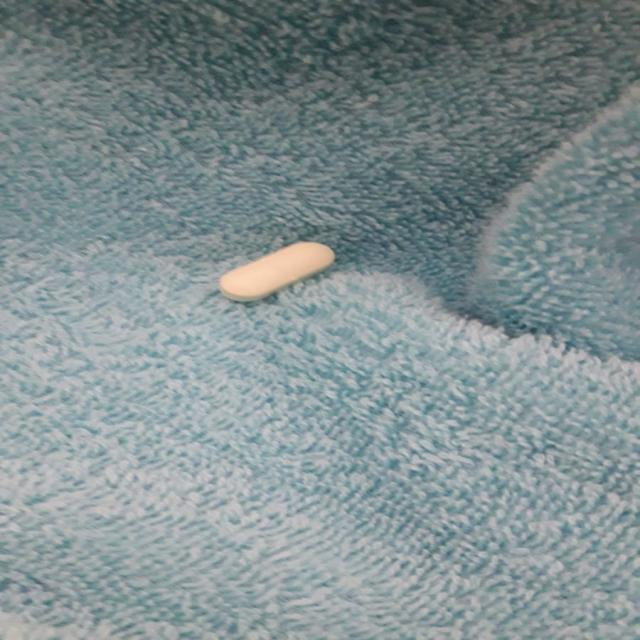pills: (206, 230, 350, 307)
